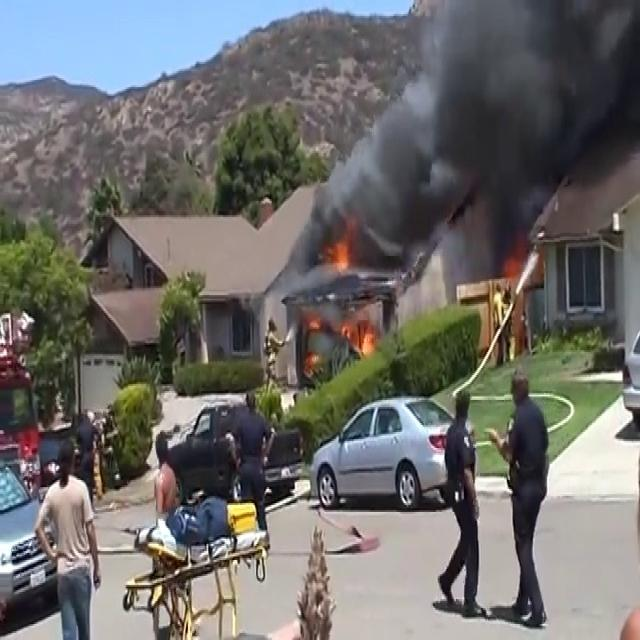Smoke: (301, 0, 638, 283)
